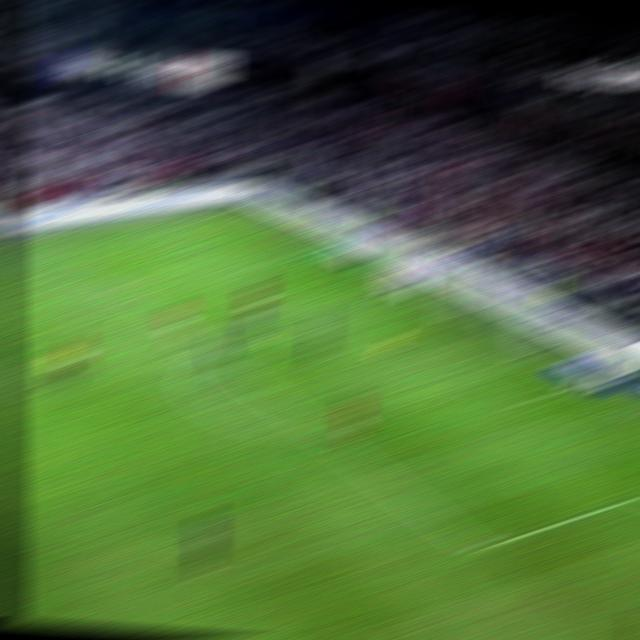bigarea_bottom_inner: (458, 534, 497, 563)
bigarea_top_inner: (105, 278, 138, 299)
bigarea_top_outter: (302, 244, 332, 258)
bottom_arc_area_intersection: (308, 426, 343, 447)
corner: (218, 204, 251, 214)
smallarea_bottom_inner: (493, 392, 526, 414)
smallarea_bottom_outter: (566, 378, 595, 392)
smallarea_top_inner: (323, 300, 351, 313)
smallarea_top_outter: (382, 285, 414, 300)
top_arc_area_intersection: (186, 337, 217, 356)
